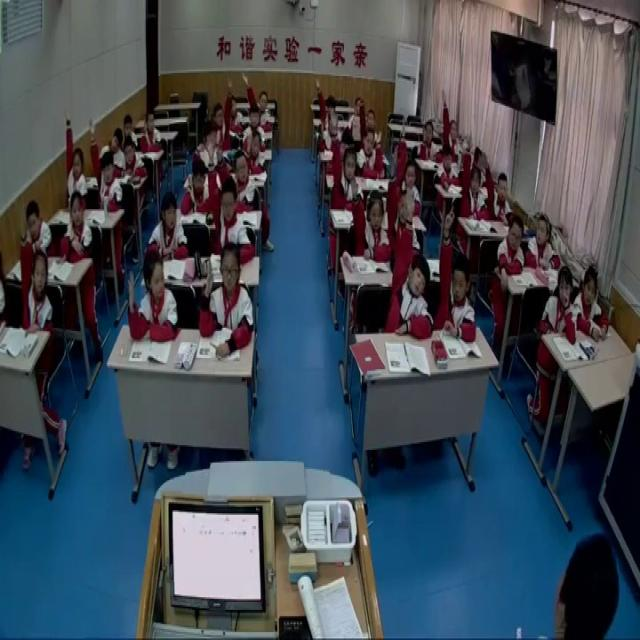distracted: (526, 210, 561, 272)
focused: (575, 264, 614, 346), (149, 194, 190, 263), (541, 262, 575, 343), (62, 185, 94, 261), (26, 198, 57, 264), (497, 217, 528, 279), (182, 156, 212, 214), (117, 135, 150, 184), (437, 144, 461, 194), (142, 108, 166, 155), (104, 126, 124, 171), (420, 118, 441, 158), (120, 111, 138, 154)
raising_hand: (392, 188, 437, 348), (204, 130, 256, 268), (199, 241, 258, 354), (437, 204, 476, 344), (14, 211, 53, 338), (128, 250, 180, 343), (346, 176, 392, 268), (386, 143, 422, 258), (214, 126, 259, 211), (327, 111, 362, 211), (86, 115, 120, 208), (62, 109, 90, 209), (396, 120, 422, 216), (458, 146, 488, 222), (482, 158, 512, 232), (243, 68, 274, 137), (212, 70, 237, 153), (355, 120, 387, 183), (441, 87, 466, 161), (311, 78, 338, 139), (356, 85, 381, 150)
